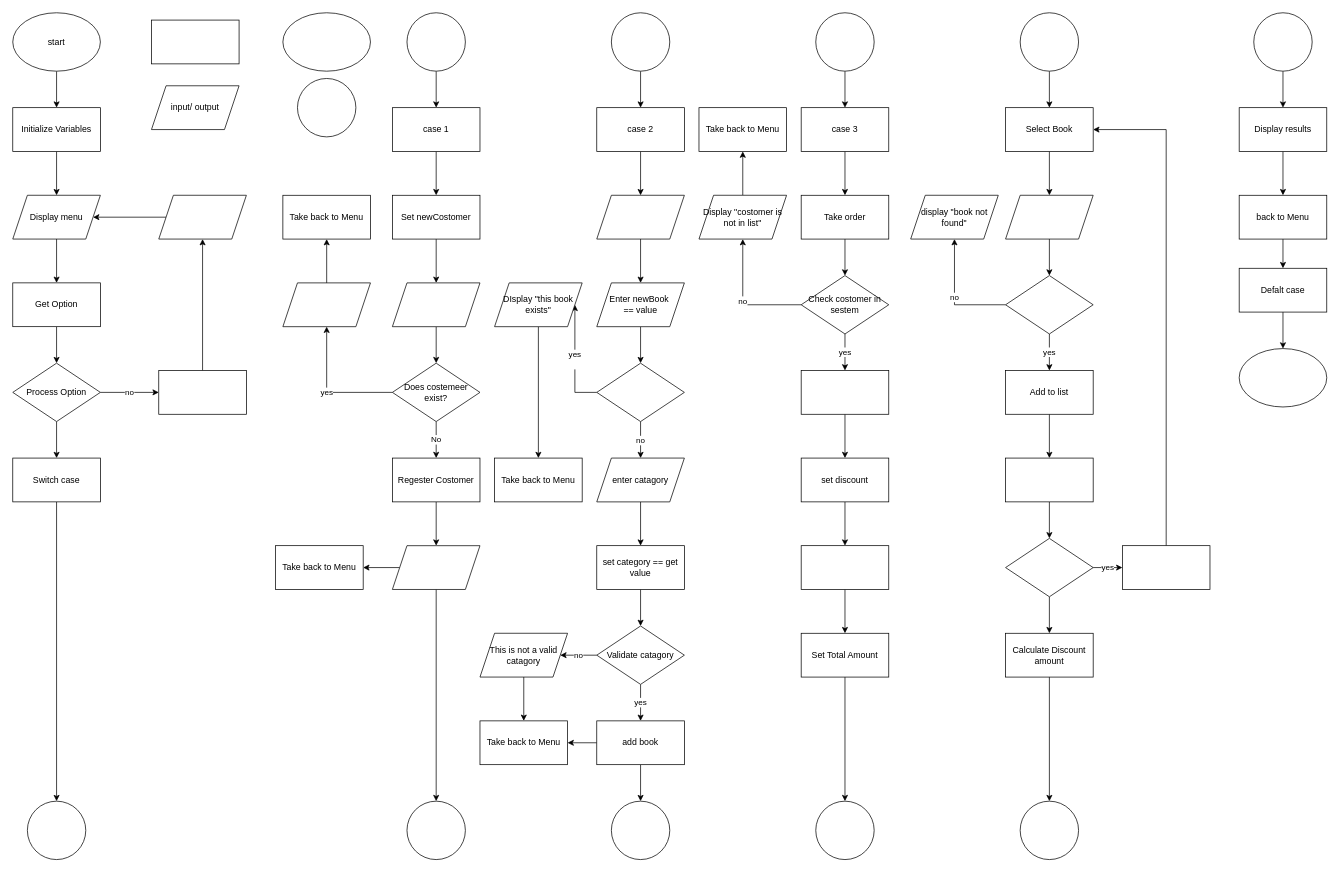
Image size: 1340x872. Some labels were removed from this diagram. The shapes that lost their labels are listed below. From the top down, each one's box as (x1, y1, x2, y2) in pixels, then its label:
(151, 19, 239, 64): proses
(282, 12, 370, 71): start/end
(297, 78, 356, 137): next page
(158, 195, 246, 239): Display "Thats is not an option"
(596, 195, 684, 239): Enter newBook Name
(1005, 195, 1093, 239): Display "enter the books name to be rented", "enter 0 to stop"
(282, 282, 370, 327): Display "This costomer exists"
(392, 282, 480, 327): Display "what is costemers name"
(1005, 275, 1093, 334): Check book avadable
(158, 370, 246, 414): Handle Invald Option
(596, 362, 684, 422): Does book exist?
(800, 370, 889, 414): Calculate discount
(1238, 348, 1327, 407): End
(1005, 457, 1093, 502): continue selection
(392, 545, 480, 589): Display sucses
(800, 545, 889, 589): continue order
(1005, 538, 1093, 597): loop check
(1122, 545, 1210, 589): while book is not 0
